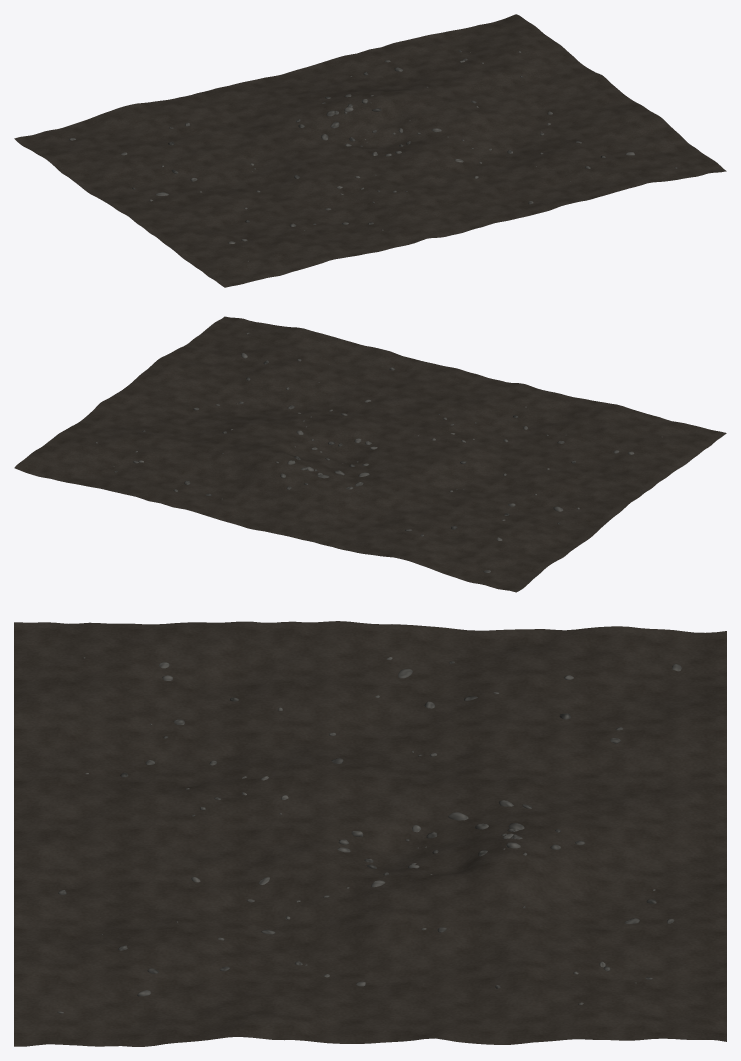
The model's file is fondo.glb.
The picture shows the model from 3 angles, top to bottom: view 1: azimuth 30°, elevation 25°; view 2: azimuth 150°, elevation 25°; view 3: azimuth 270°, elevation 25°; orthographic projection. The views are drawn at different scales.
Parts seen in each view (by area): view 1: Fondo_hadal, Rocas del talud; view 2: Fondo_hadal, Rocas del talud; view 3: Fondo_hadal, Rocas del talud.
Part boxes in pixels (x1,y1,x2,y2): Fondo_hadal: (14,14,726,287); Rocas del talud: (69,50,677,261); Fondo_hadal: (14,316,726,592); Rocas del talud: (95,332,662,572); Fondo_hadal: (14,621,726,1046); Rocas del talud: (57,657,681,1013).
Size of the model in its own units: 44 by 1.57 by 32.
2 materials, 1 textured.
